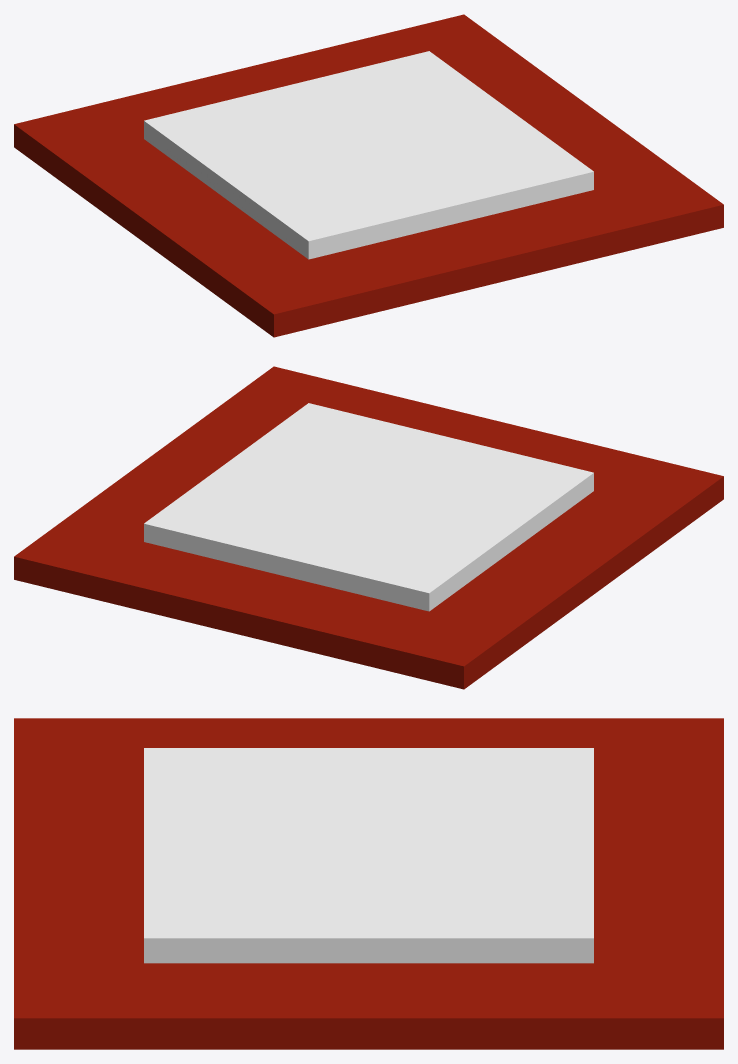
The model's file is return.obj.
3 renders of one model, top to bottom at view 1: azimuth 30°, elevation 25°; view 2: azimuth 150°, elevation 25°; view 3: azimuth 270°, elevation 25°, orthographic. The views are drawn at different scales.
Parts seen in each view (by area): view 1: Cube; view 2: Cube; view 3: Cube.
Boxes of the visible parts, box(x1,y1,x2,y2) form: Cube: box(14, 14, 723, 337); Cube: box(14, 366, 723, 689); Cube: box(14, 718, 723, 1049).
Bounding box in the file's own units: 2 × 0.1757 × 2.
